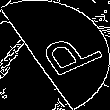P_SW: (16, 27, 94, 83)
